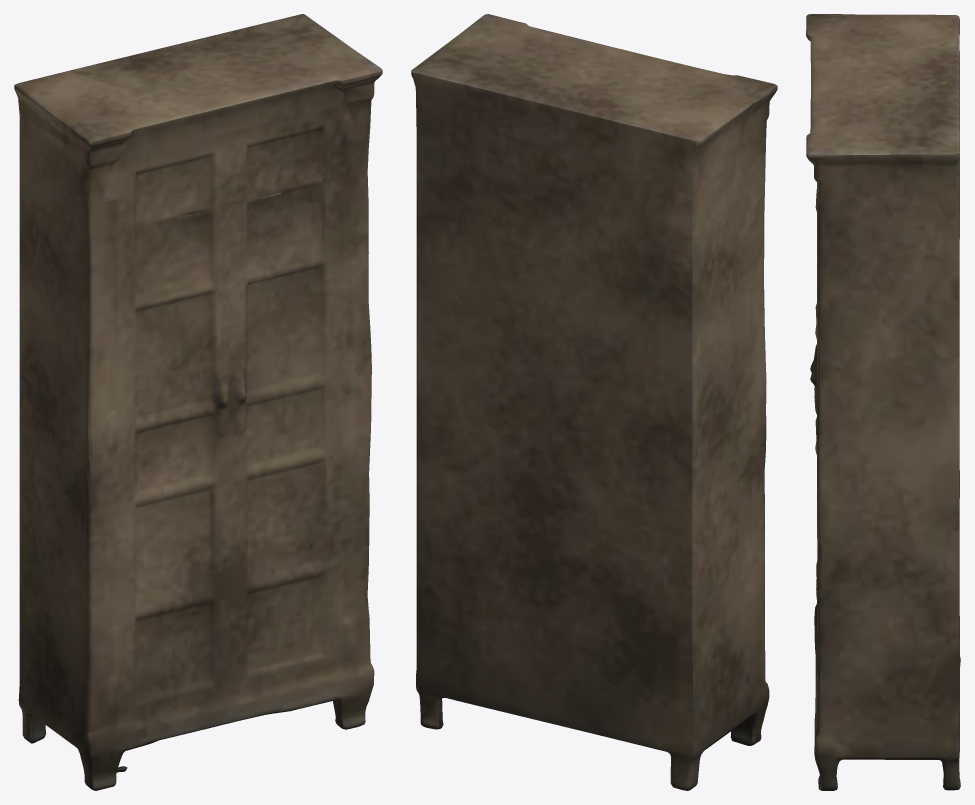
File: chipped-wood-bookcase-v001.glb
3 views of the same model, side by side, from view 1: azimuth 30°, elevation 25°; view 2: azimuth 150°, elevation 25°; view 3: azimuth 270°, elevation 25° (orthographic). The views are drawn at different scales.
Visible parts, largest first — view 1: chipped-wood-bookcase; view 2: chipped-wood-bookcase; view 3: chipped-wood-bookcase.
Boxes of the visible parts, x1,y1,x2,y2 form: chipped-wood-bookcase: (14, 14, 382, 790); chipped-wood-bookcase: (411, 14, 777, 790); chipped-wood-bookcase: (806, 14, 960, 790).
Bounding box in the file's own units: 0.9211 × 1.97 × 0.4284.
1 material, 1 textured.
